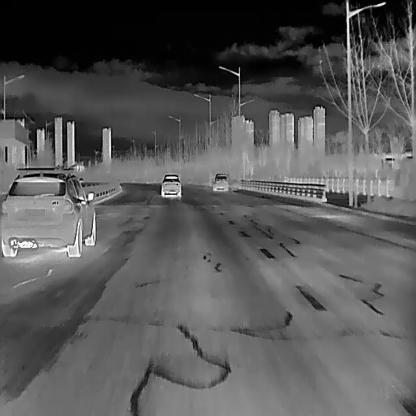car: (0, 171, 96, 256), (161, 173, 181, 197), (213, 171, 228, 191)
